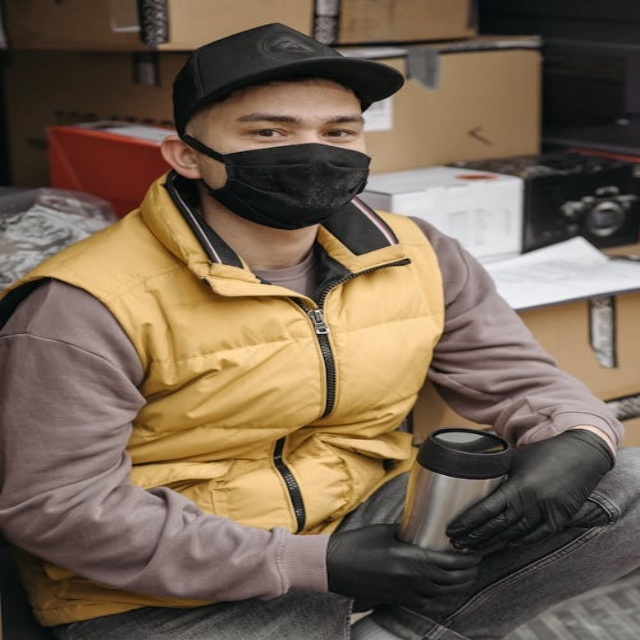Guantes: (439, 429, 617, 557), (325, 522, 486, 617)
Mascara: (183, 136, 374, 228)
Sin_gafas: (223, 105, 360, 142)
